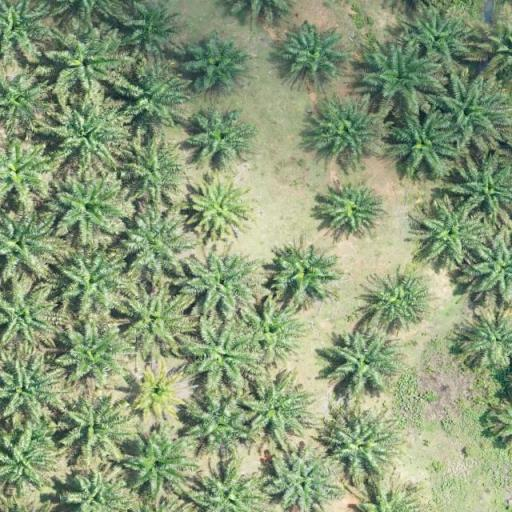Ganoderma: (192, 187, 246, 232), (135, 370, 183, 410)
